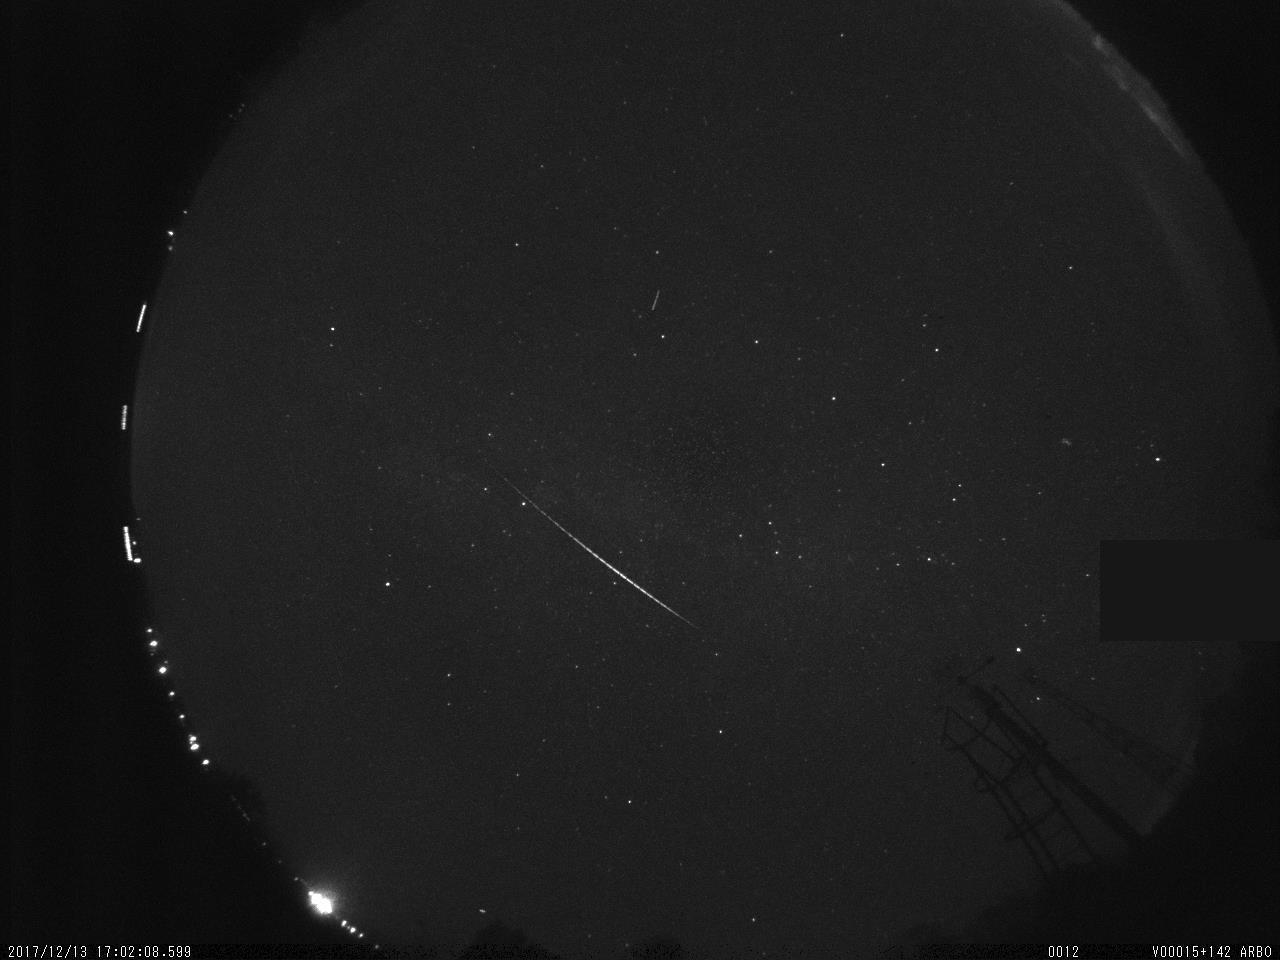meteor: (464, 459, 740, 679)
